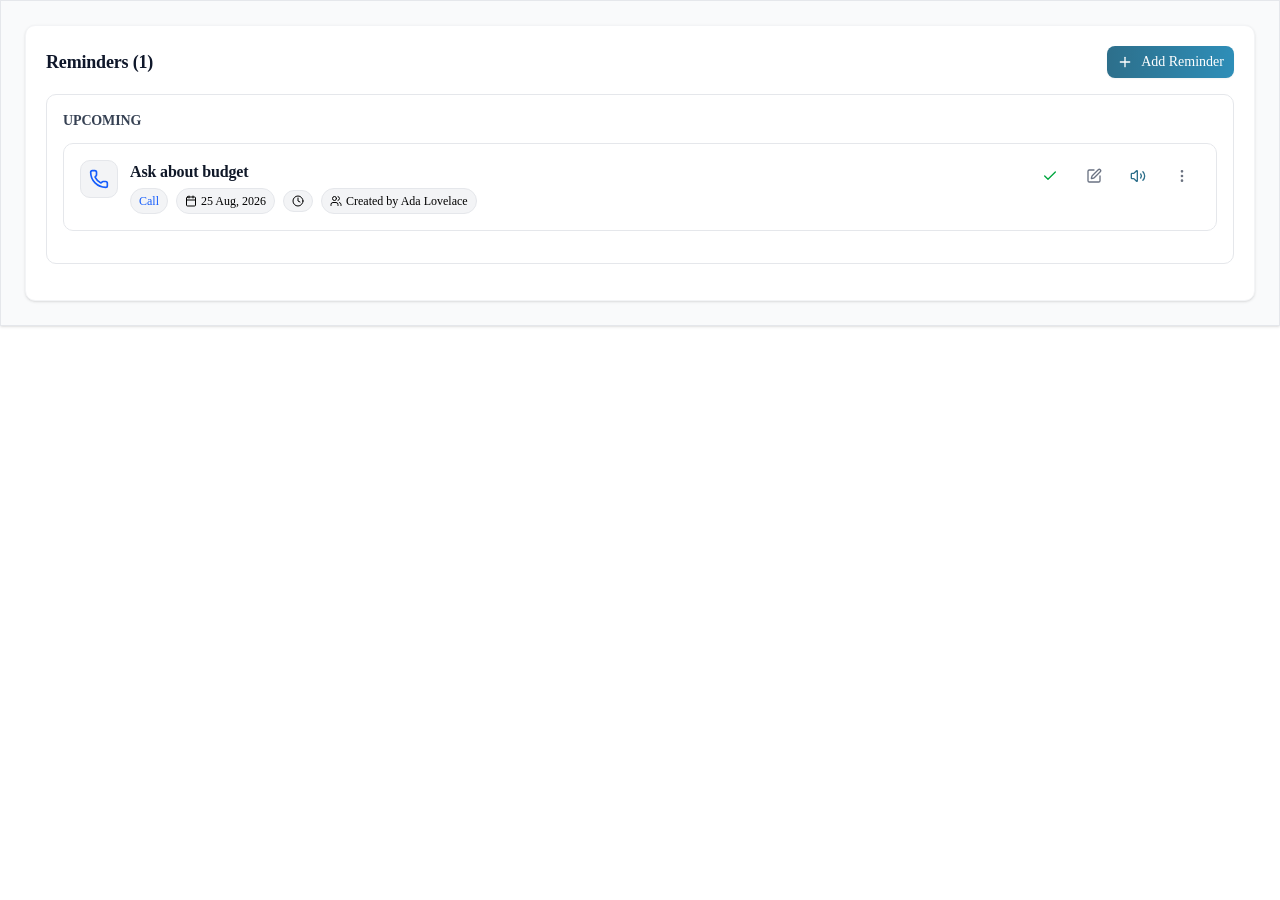
Test: Reminders create flow › asks for confirmation before deleting a reminder
Step 1. Click the button titled "More actions" → (1182, 176), box [1164,160,1200,192]
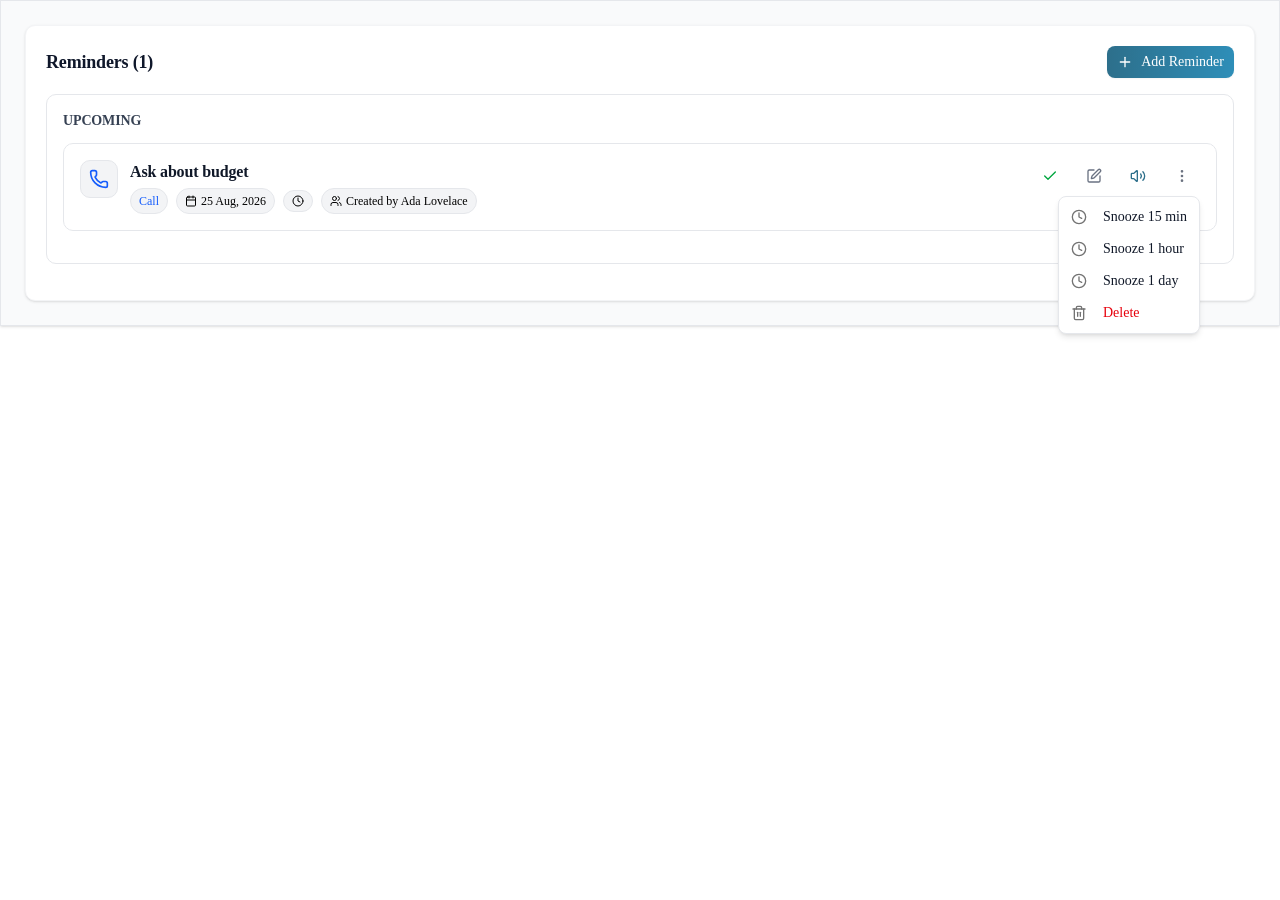
Step 2. Click the menu item "Delete" → (1105, 313), box [1071,305,1140,321]
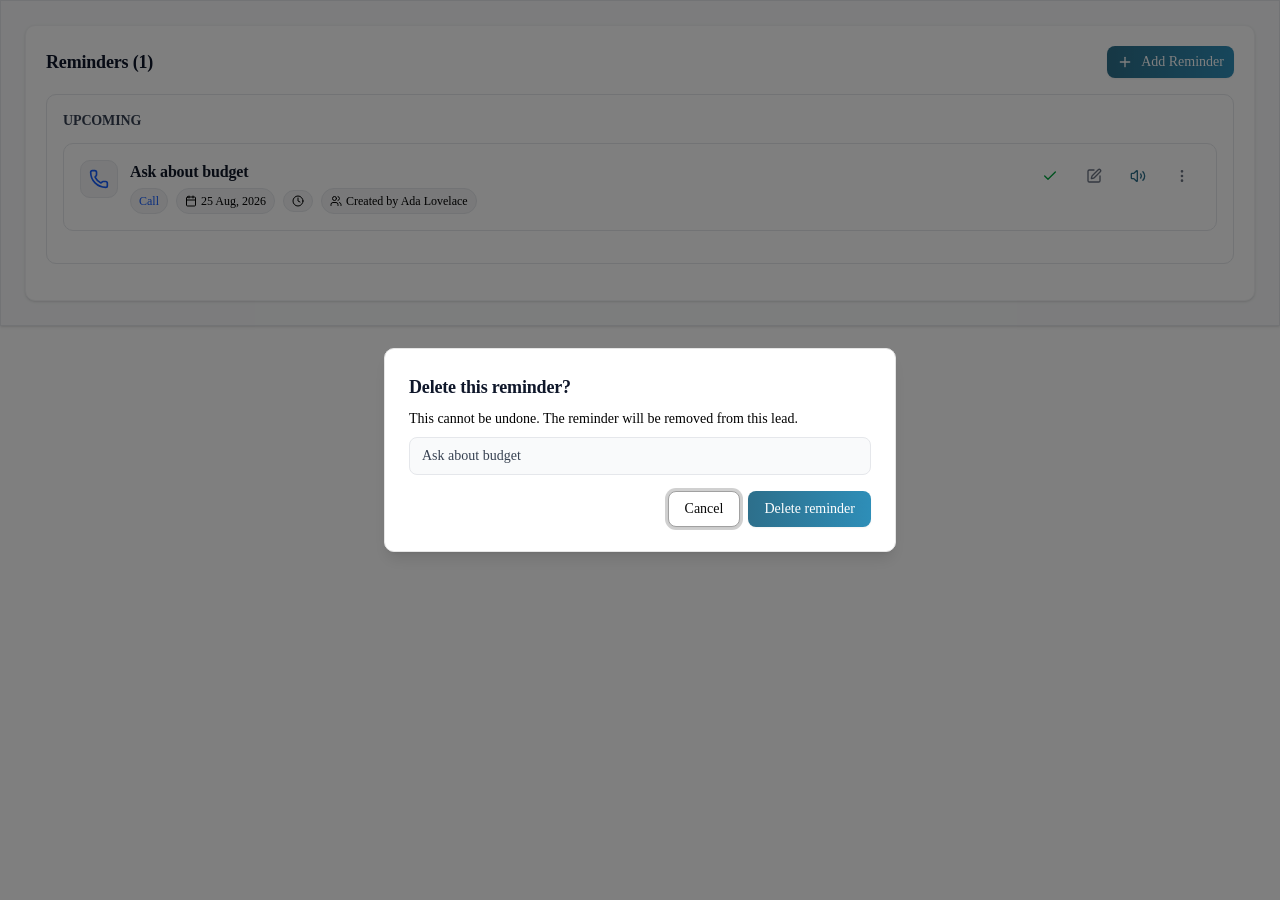
Check: the heading "Delete this reminder?" is shown, box [409,377,571,397]
Check: the text "Ask about budget" is shown, box [409,437,871,475]
Step 3. Click the button "Cancel" → (704, 509), box [668,491,740,527]
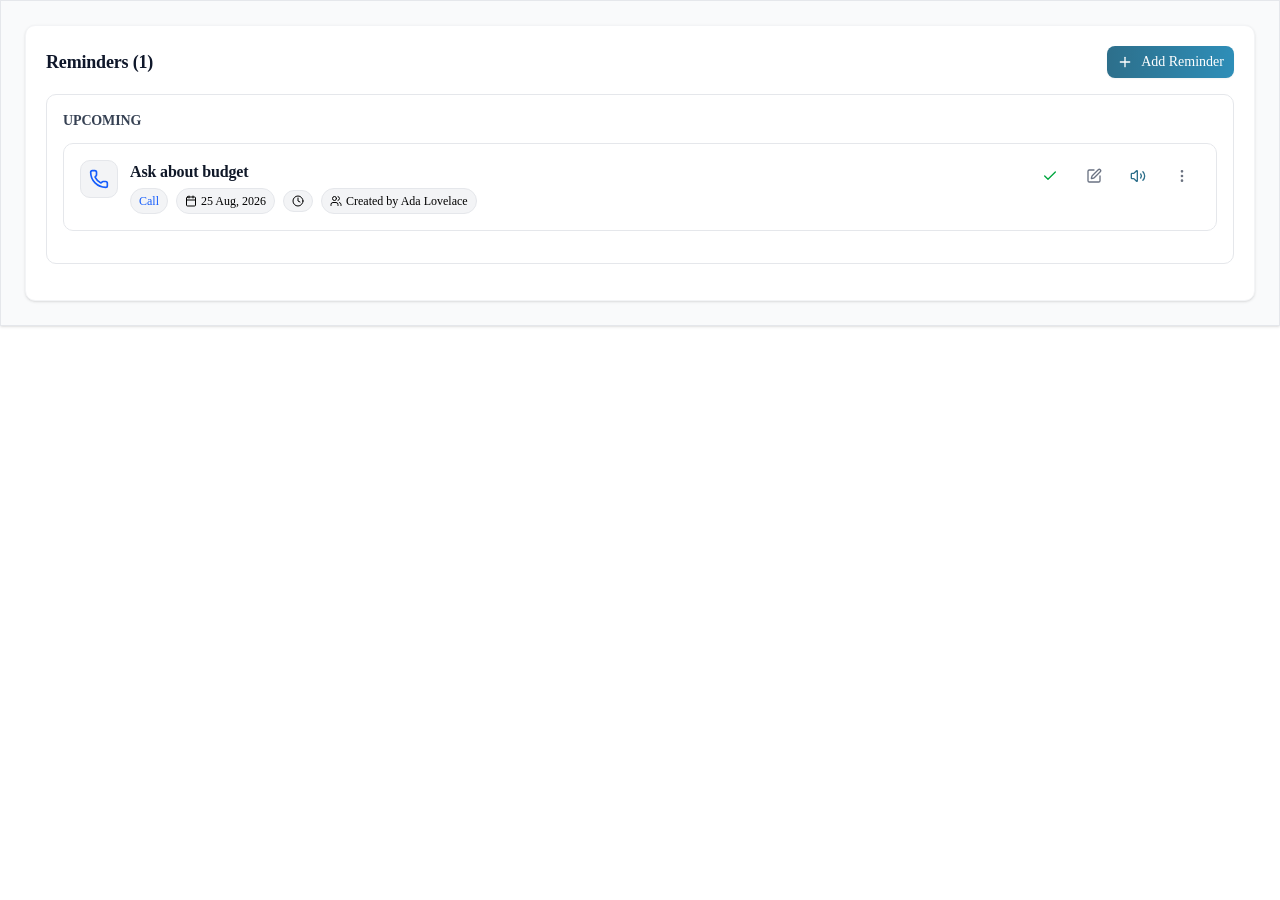
Check: the dialog is gone
